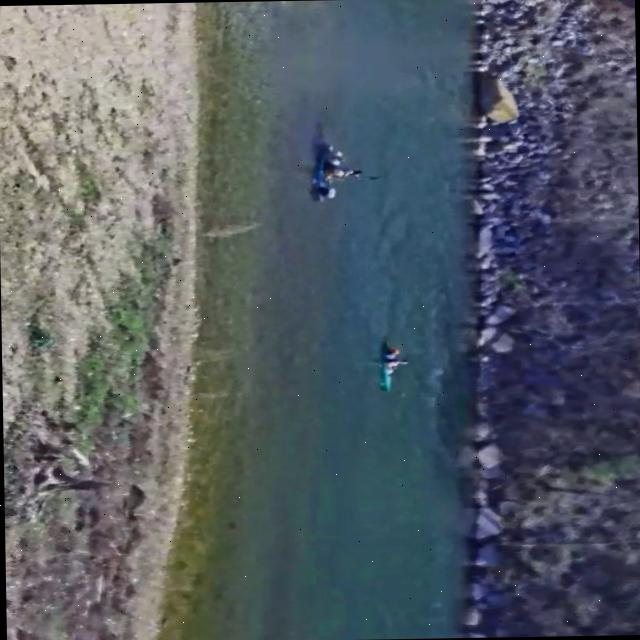kayak: (311, 143, 362, 201), (380, 341, 408, 391)
